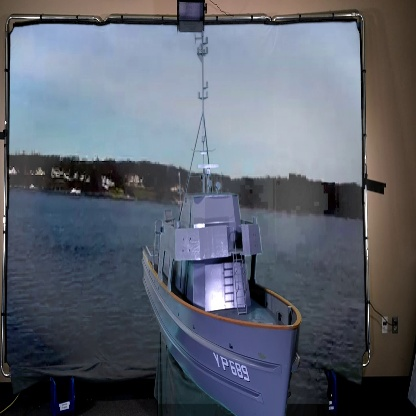YP689: (141, 30, 301, 416)
